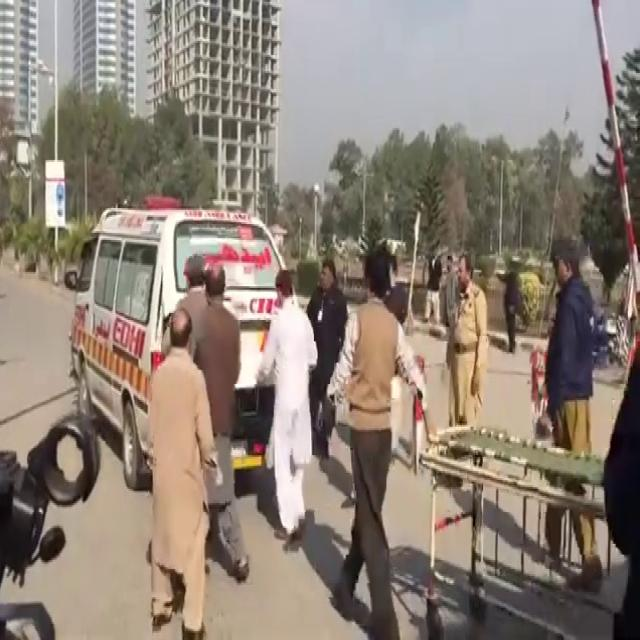ambulance: (68, 216, 288, 430)
